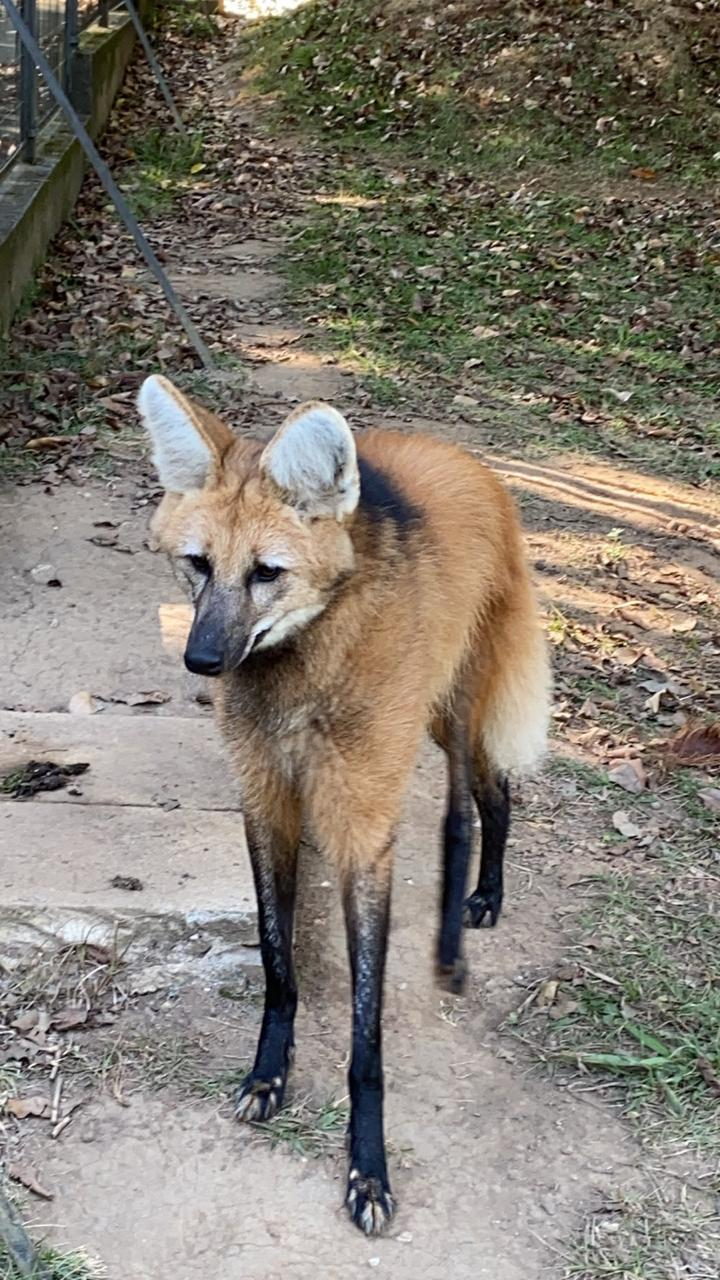LoboGuara: (117, 352, 553, 1242)
